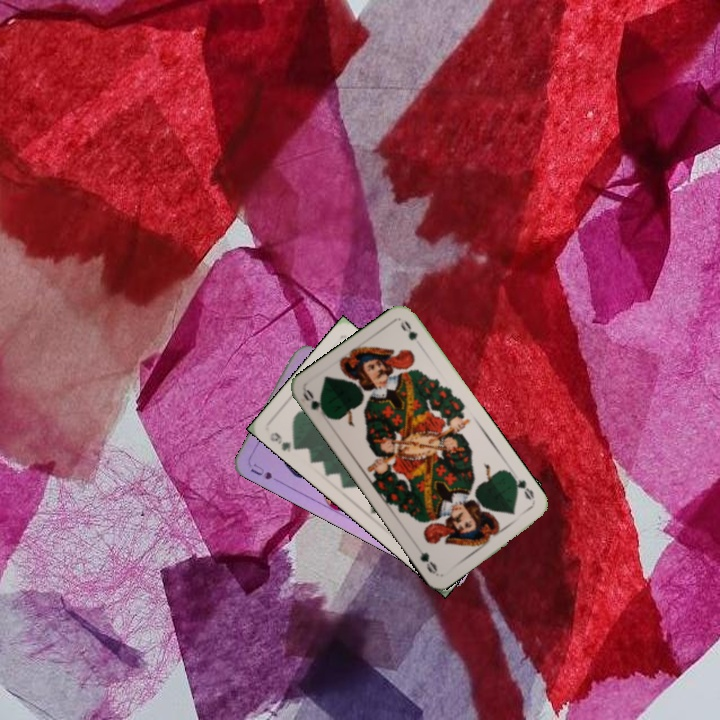G9: (266, 428, 303, 455)
GO: (299, 386, 332, 421), (508, 472, 537, 502)
SU: (246, 459, 285, 485)
